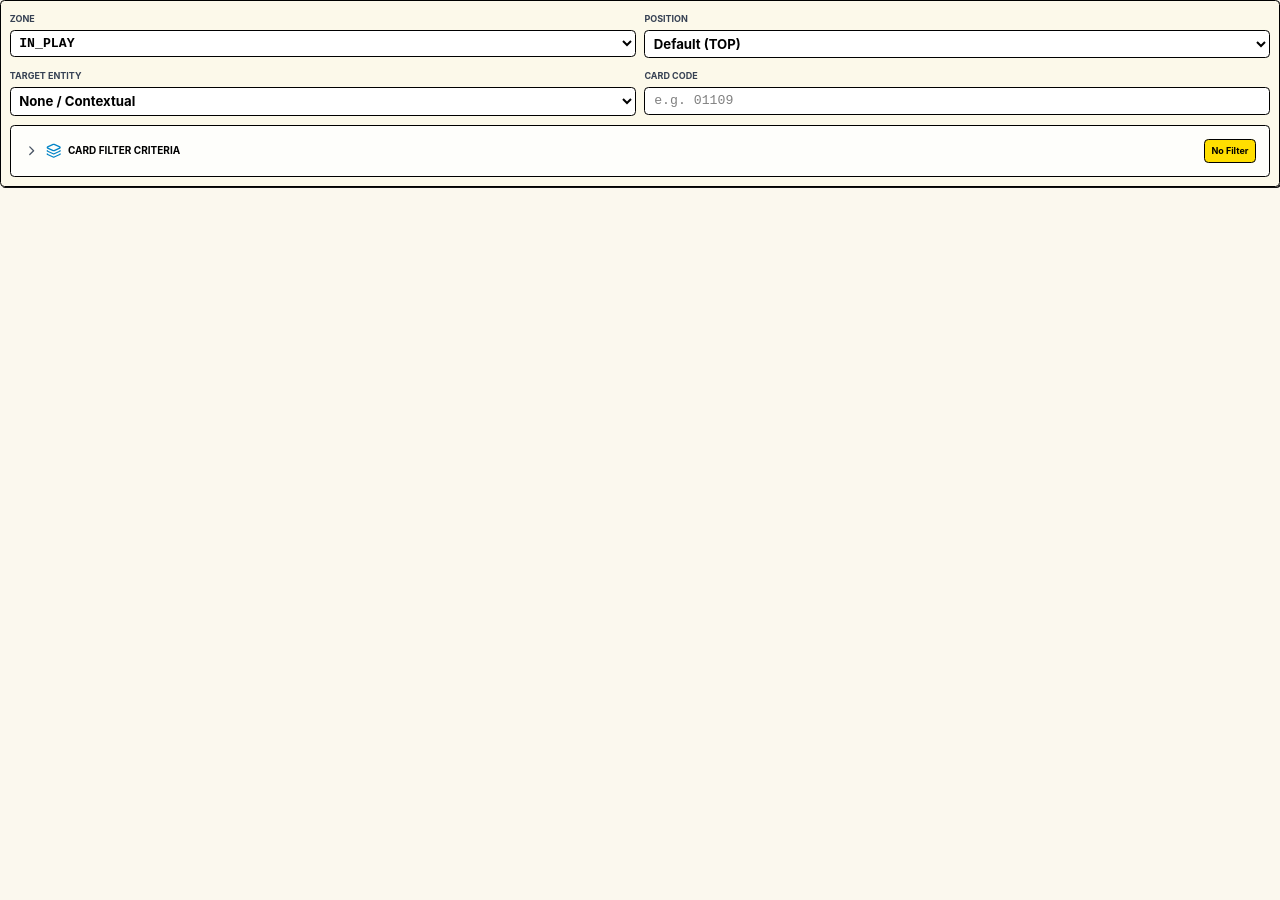
Test: CardLocationSelectorForm Component › filter accordion opens and renders UniversalCardFilterBuilder
Step 1. Click the element with test id "test-loc-filter-accordion-toggle" → x=124, y=150, box 20,134 -> 1260,167
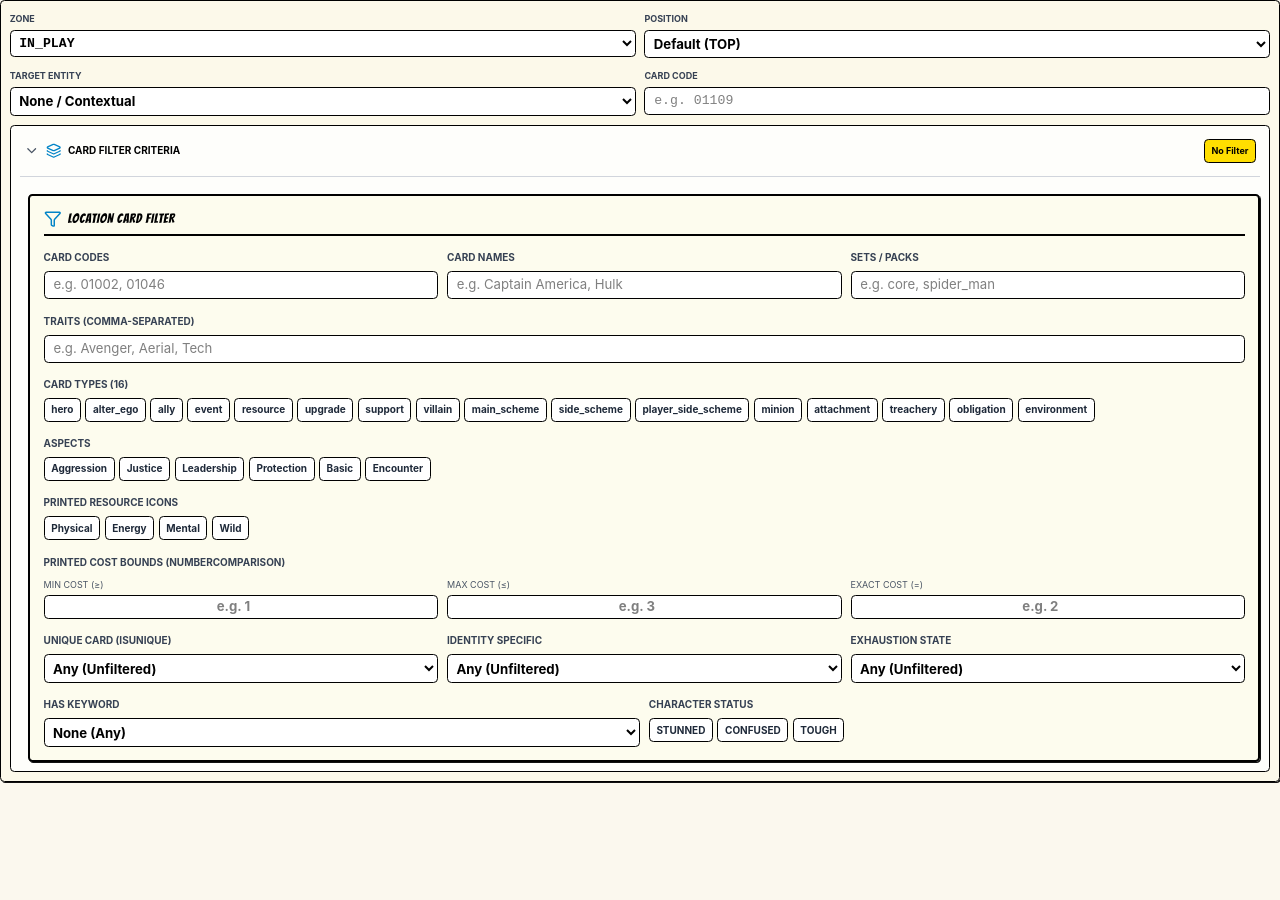
Now the element with test id "test-loc-filter-content" is shown
Now the text "Location Card Filter" is shown, box 68,210 -> 175,227
